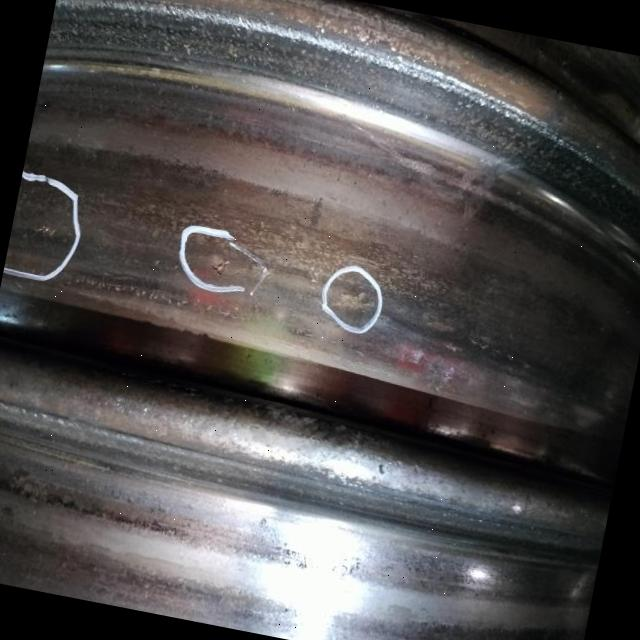Blue hole: (208, 253, 247, 282), (34, 223, 59, 244)
